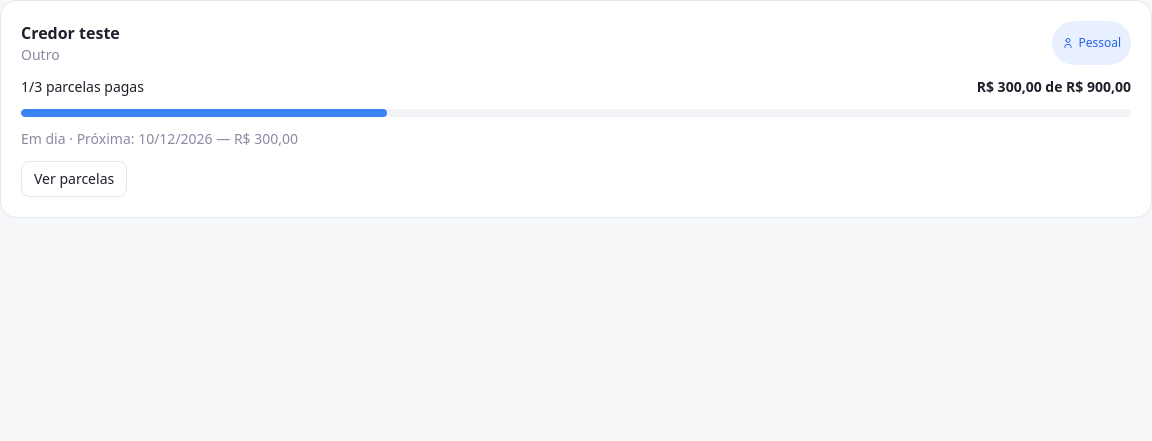
it: DebtCard › mostra o progresso e permite abrir as parcelas
Expected: the text "1/3 parcelas pagas" is shown, x1=21 y1=77 x2=144 y2=97
Click the button "Ver parcelas". click: [74, 179]
box: x1=21 y1=161 x2=127 y2=197
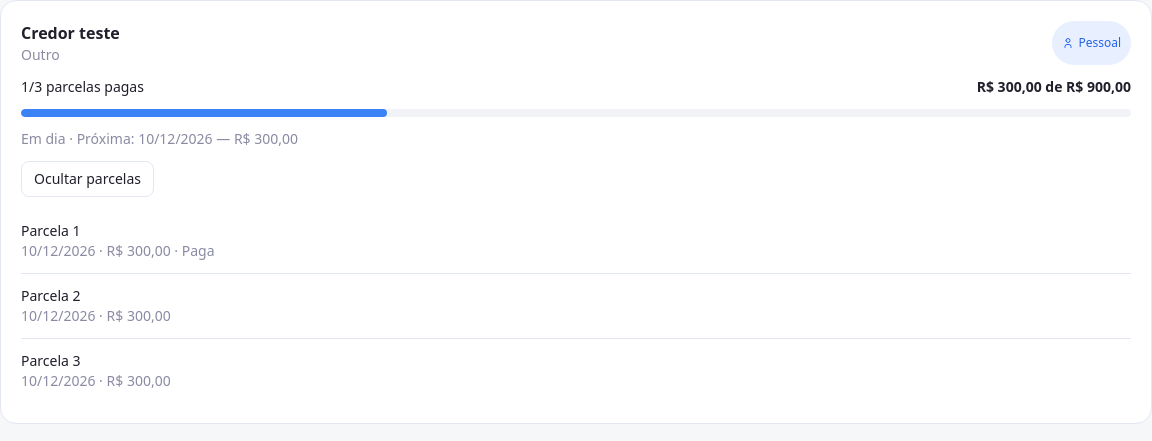
Now the text "Parcela 2" is shown, box x1=21 y1=286 x2=81 y2=305
